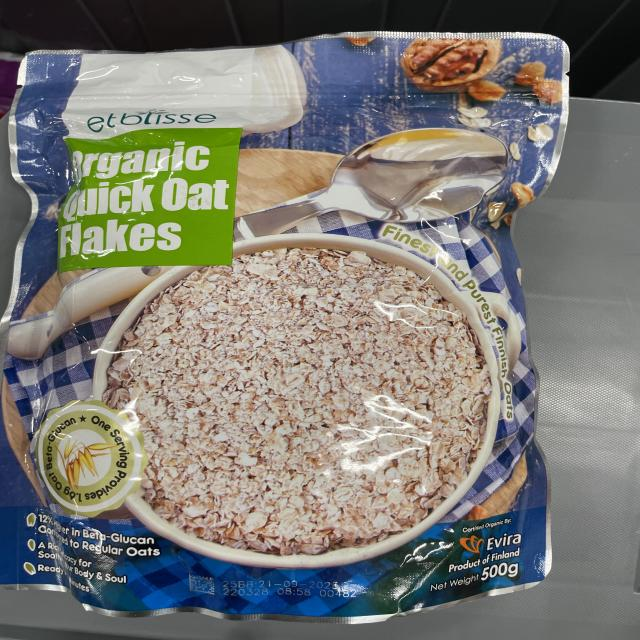object_name: (19, 54, 533, 592)
